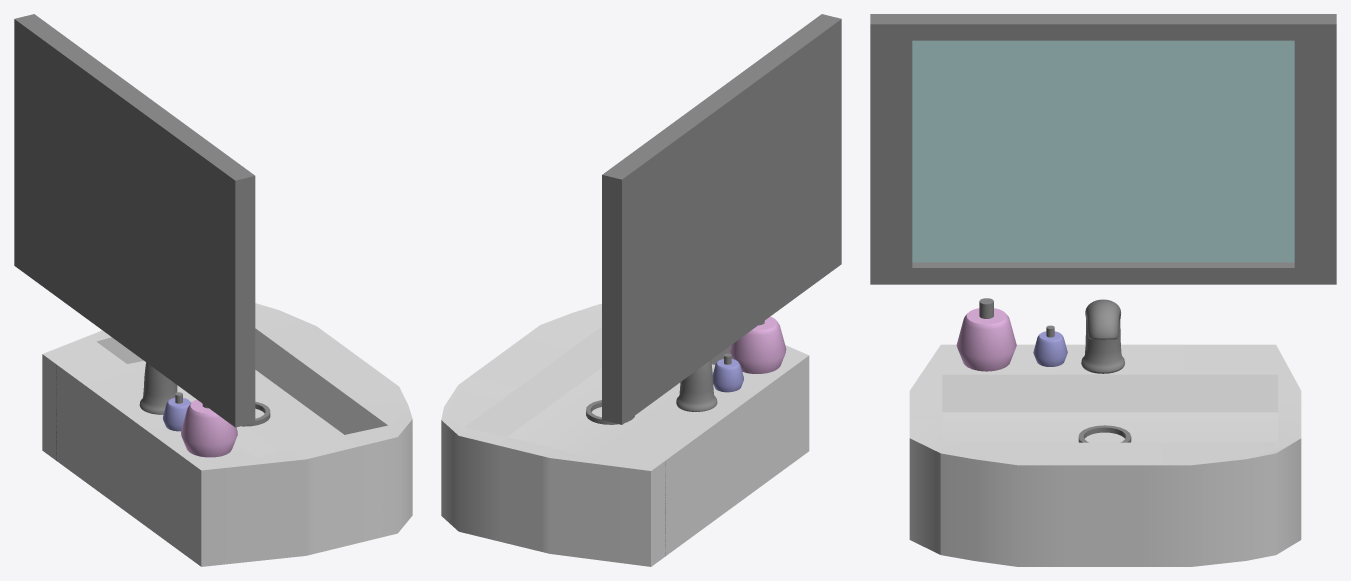
Rendered from Sink.fbx.
3 renders of one model, left to right at view 1: azimuth 30°, elevation 25°; view 2: azimuth 150°, elevation 25°; view 3: azimuth 270°, elevation 25°, orthographic. The views are drawn at different scales.
Visible parts, largest first — view 1: polySurface3; view 2: polySurface3; view 3: polySurface3.
Boxes of the visible parts, <box> form: polySurface3: <box>14,14,412,566</box>; polySurface3: <box>441,14,841,566</box>; polySurface3: <box>870,14,1336,566</box>.
Size of the model in its own units: 75.3 by 126 by 123.
